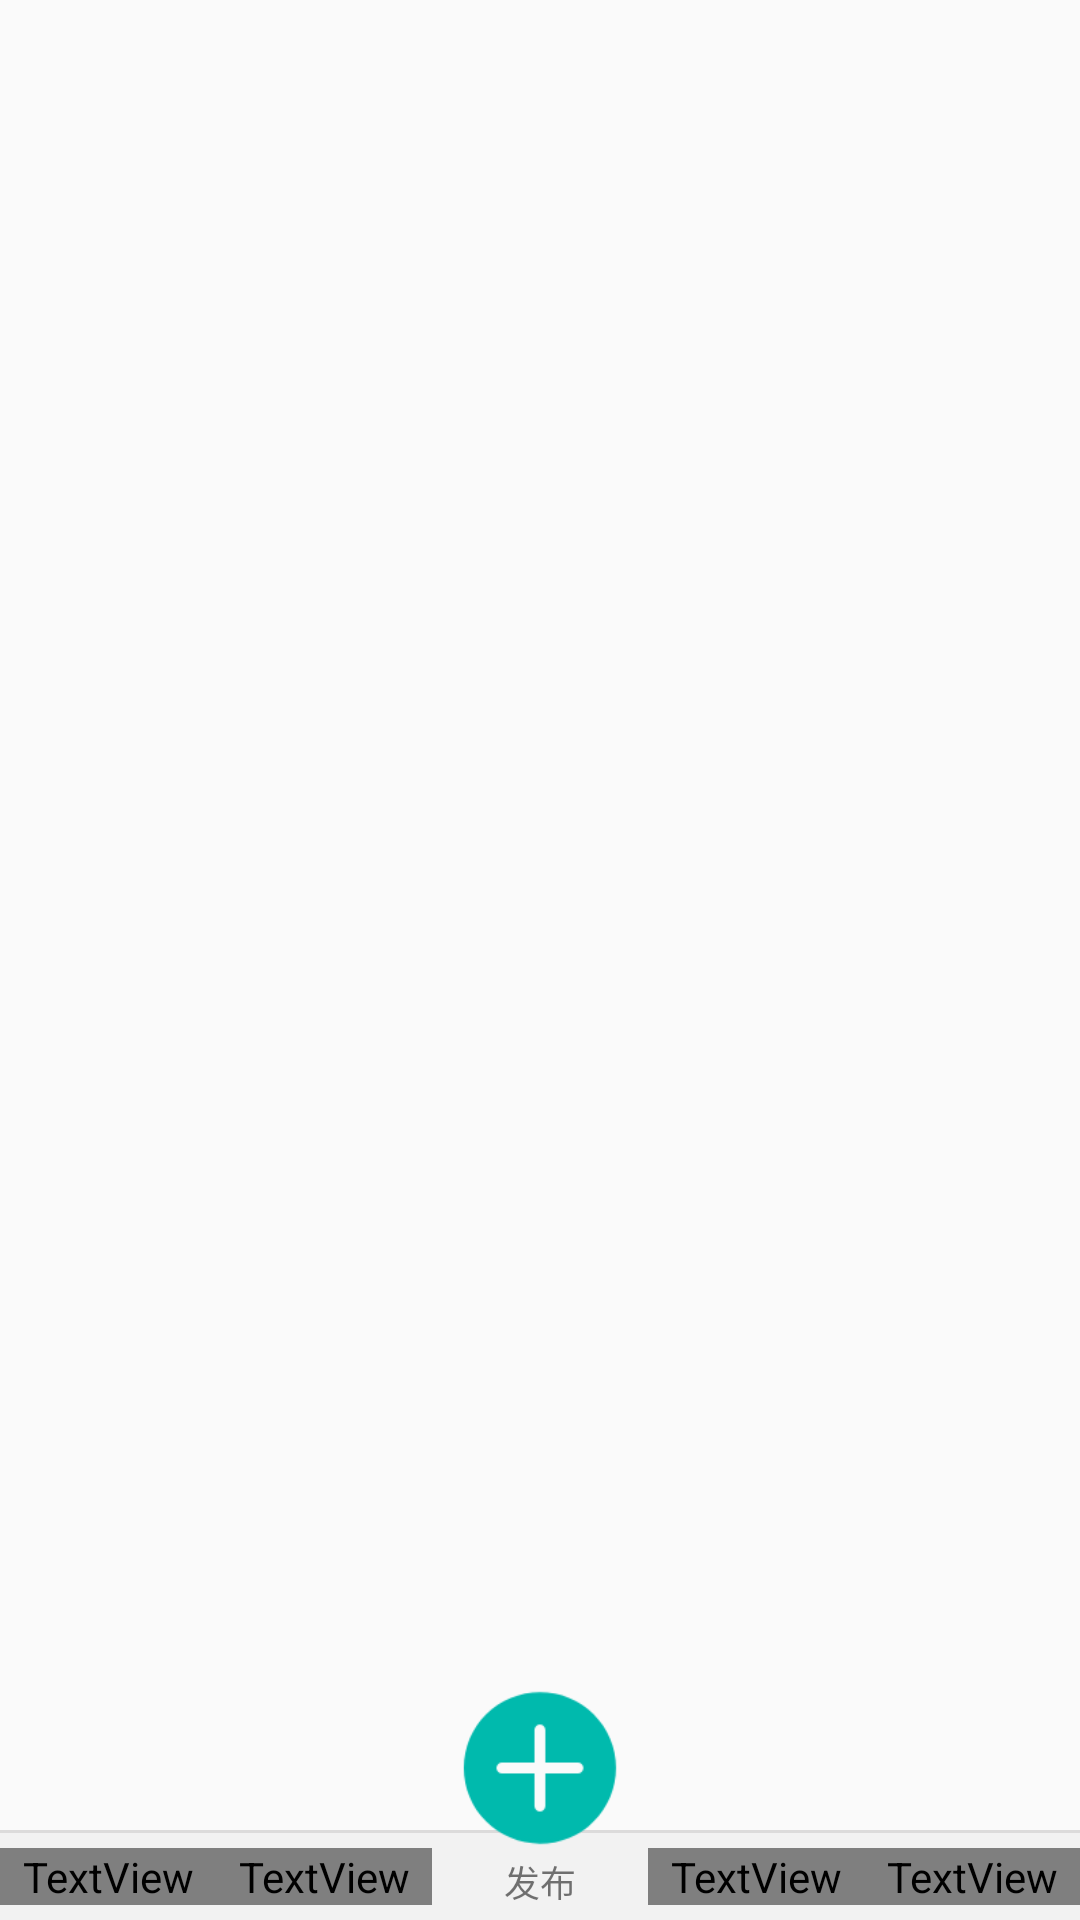

Icons on this 1080×1920 Android screen, each with its box as (x1, y1, x2, y2):
plus: (453, 1691, 627, 1845)
